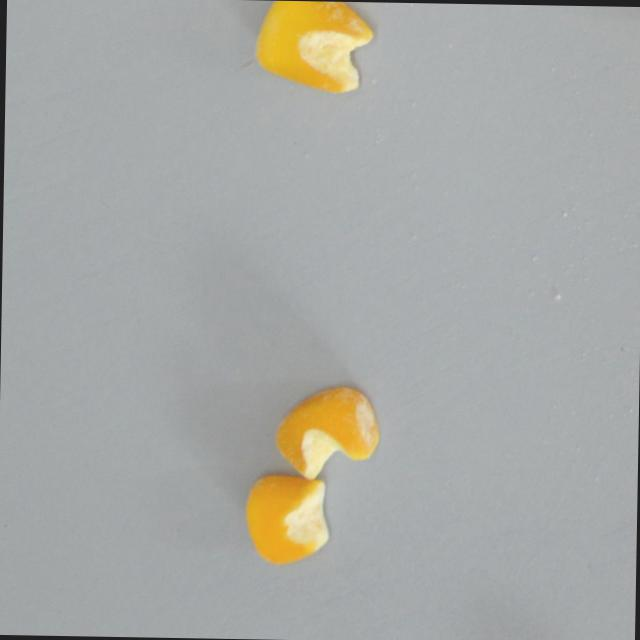no_desgerminado: (239, 472, 331, 567)
pelicula: (249, 0, 374, 97), (271, 382, 382, 482)
